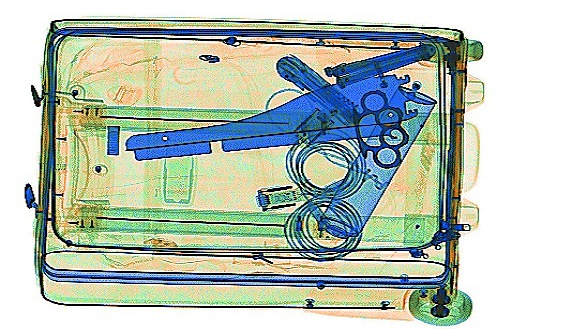knife: (274, 48, 362, 127), (322, 42, 437, 89)
pressure: (313, 83, 437, 251)
